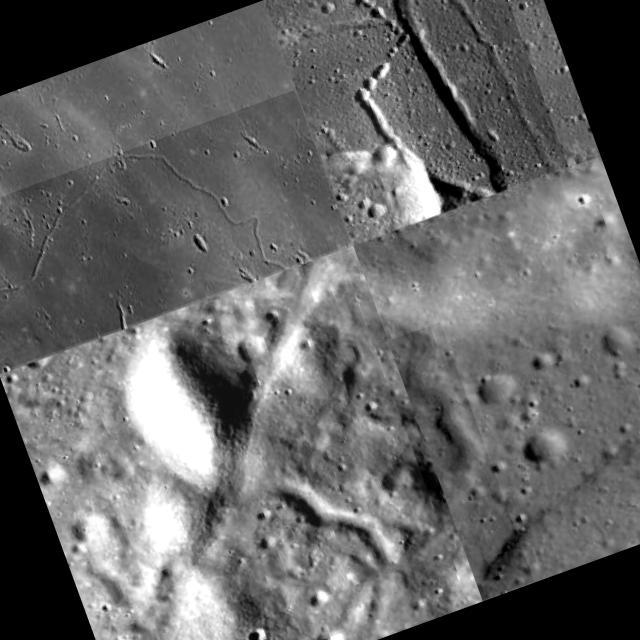rille: (61, 250, 442, 629), (0, 90, 350, 372), (344, 2, 599, 228), (365, 0, 568, 207), (388, 322, 534, 600), (352, 0, 525, 212), (245, 447, 429, 640)
